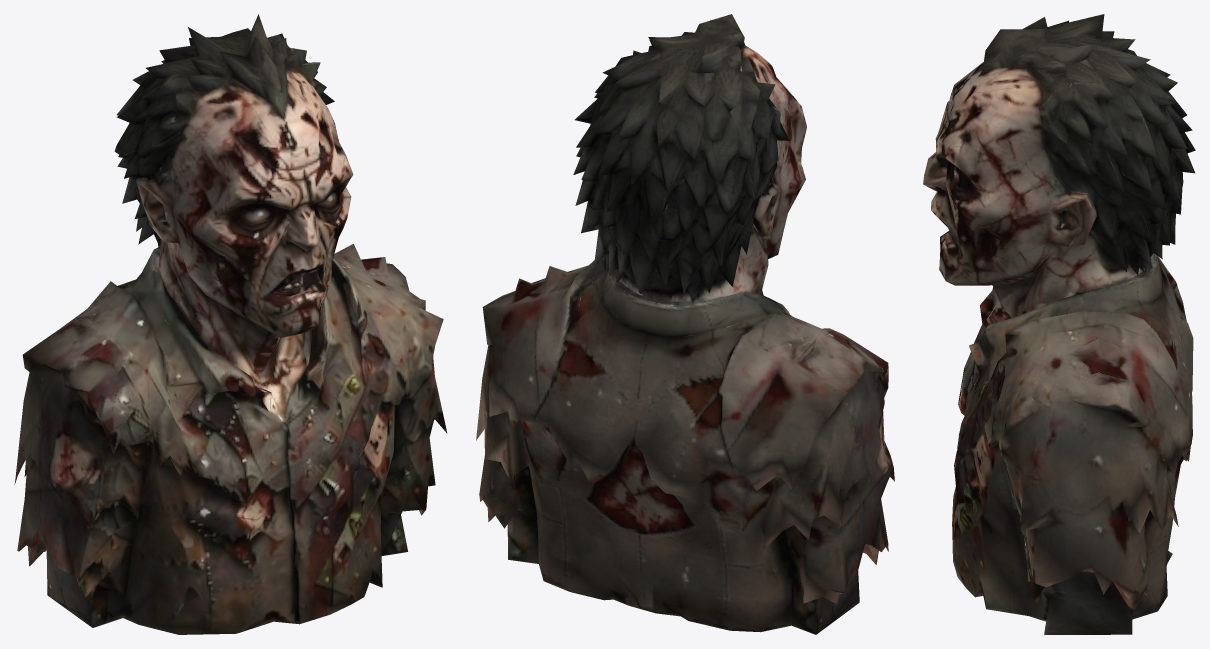
File: shambler.glb
3 views of the same model, side by side, from view 1: azimuth 30°, elevation 25°; view 2: azimuth 150°, elevation 25°; view 3: azimuth 270°, elevation 25° (orthographic). The views are drawn at different scales.
Parts seen in each view (by area): view 1: Mesh_0; view 2: Mesh_0; view 3: Mesh_0.
Part boxes in pixels (x1,y1,x2,y2): Mesh_0: (14, 14, 447, 634); Mesh_0: (476, 14, 894, 634); Mesh_0: (923, 14, 1195, 634).
Bounding box in the file's own units: 1.37 × 1.9 × 0.8802.
1 material, 1 textured.
